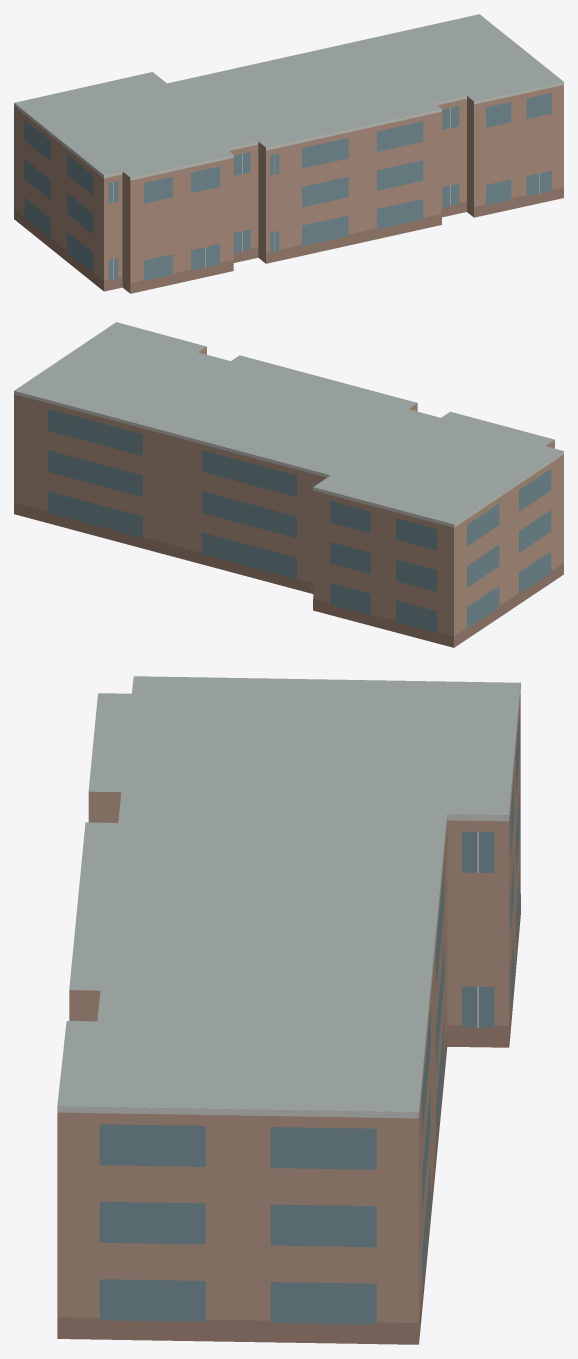
The model's file is survey-upis-32764182.glb.
3 views of the same model, one above another, from view 1: azimuth 30°, elevation 25°; view 2: azimuth 150°, elevation 25°; view 3: azimuth 270°, elevation 25° (orthographic). The views are drawn at different scales.
Parts seen in each view (by area): view 1: survey-upis-32764182.tmp; view 2: survey-upis-32764182.tmp; view 3: survey-upis-32764182.tmp.
Part boxes in pixels (<box>): survey-upis-32764182.tmp: <box>14,14,563,293</box>; survey-upis-32764182.tmp: <box>14,322,563,647</box>; survey-upis-32764182.tmp: <box>57,676,520,1344</box>.
Size of the model in its own units: 36.81 by 9.15 by 16.54.
